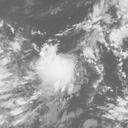cyclone: (34, 48, 80, 94)
